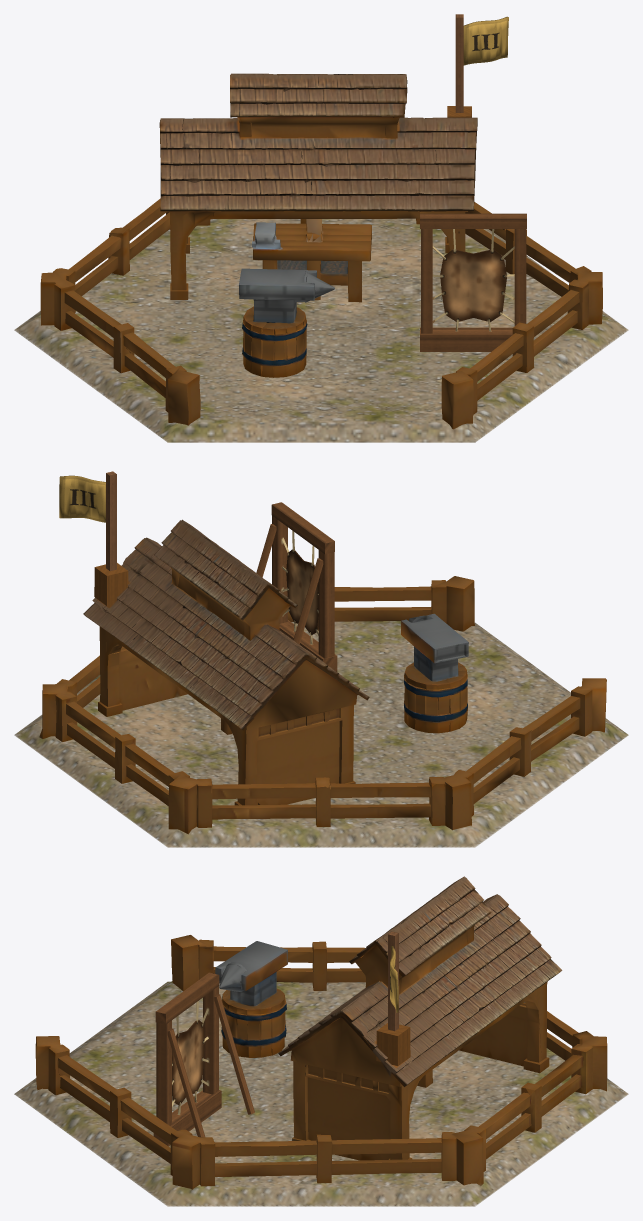
The model's file is workshop-3.glb.
3 renders of one model, top to bottom at view 1: azimuth 30°, elevation 25°; view 2: azimuth 150°, elevation 25°; view 3: azimuth 270°, elevation 25°, orthographic.
Visible parts, largest first — view 1: architecture, ground, tier-banner; view 2: architecture, ground, tier-banner; view 3: architecture, ground.
Boxes of the visible parts, bbox=[...] form: architecture: bbox=[40, 14, 602, 429]; ground: bbox=[14, 218, 628, 442]; tier-banner: bbox=[463, 16, 508, 65]; architecture: bbox=[39, 471, 606, 834]; ground: bbox=[14, 621, 628, 847]; tier-banner: bbox=[59, 475, 105, 522]; architecture: bbox=[35, 876, 607, 1189]; ground: bbox=[14, 981, 628, 1206].
Bounding box in the file's own units: 1.59 × 0.81 × 1.84.
3 materials, 3 textured.
